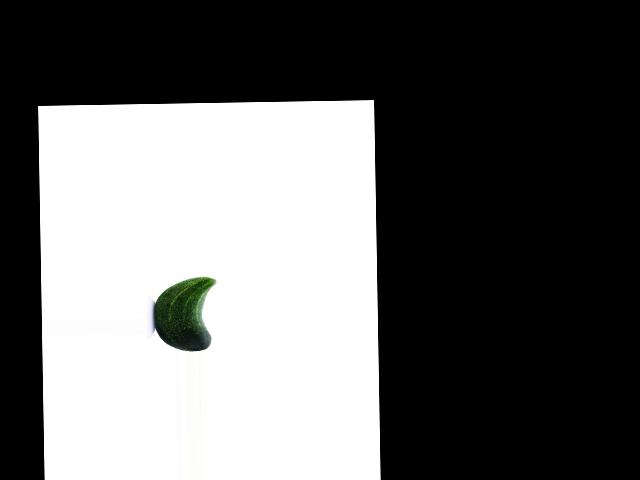cucumber: (153, 276, 217, 351)
